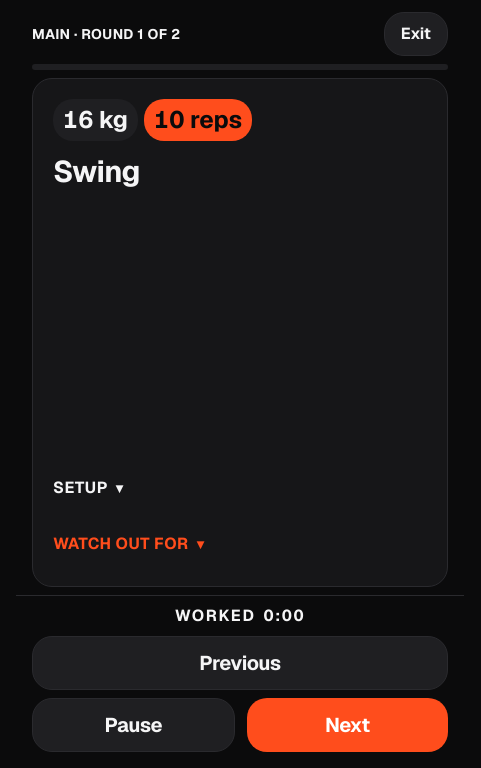
WorkoutRunner › advances on Next and saves the position
Click the button "Next": (347, 725) [247,698,448,752]
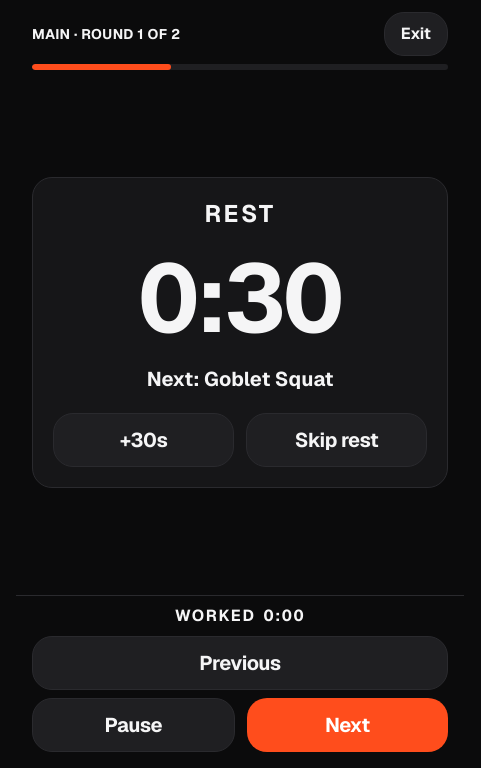
Check: the text "Next: Goblet Squat" is shown, box [147,366,333,393]
